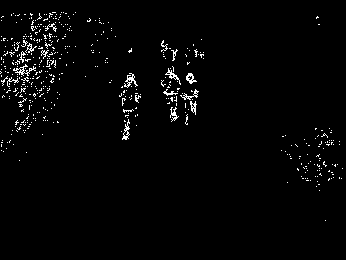person: (114, 70, 141, 141), (161, 63, 184, 128), (187, 69, 204, 129)
